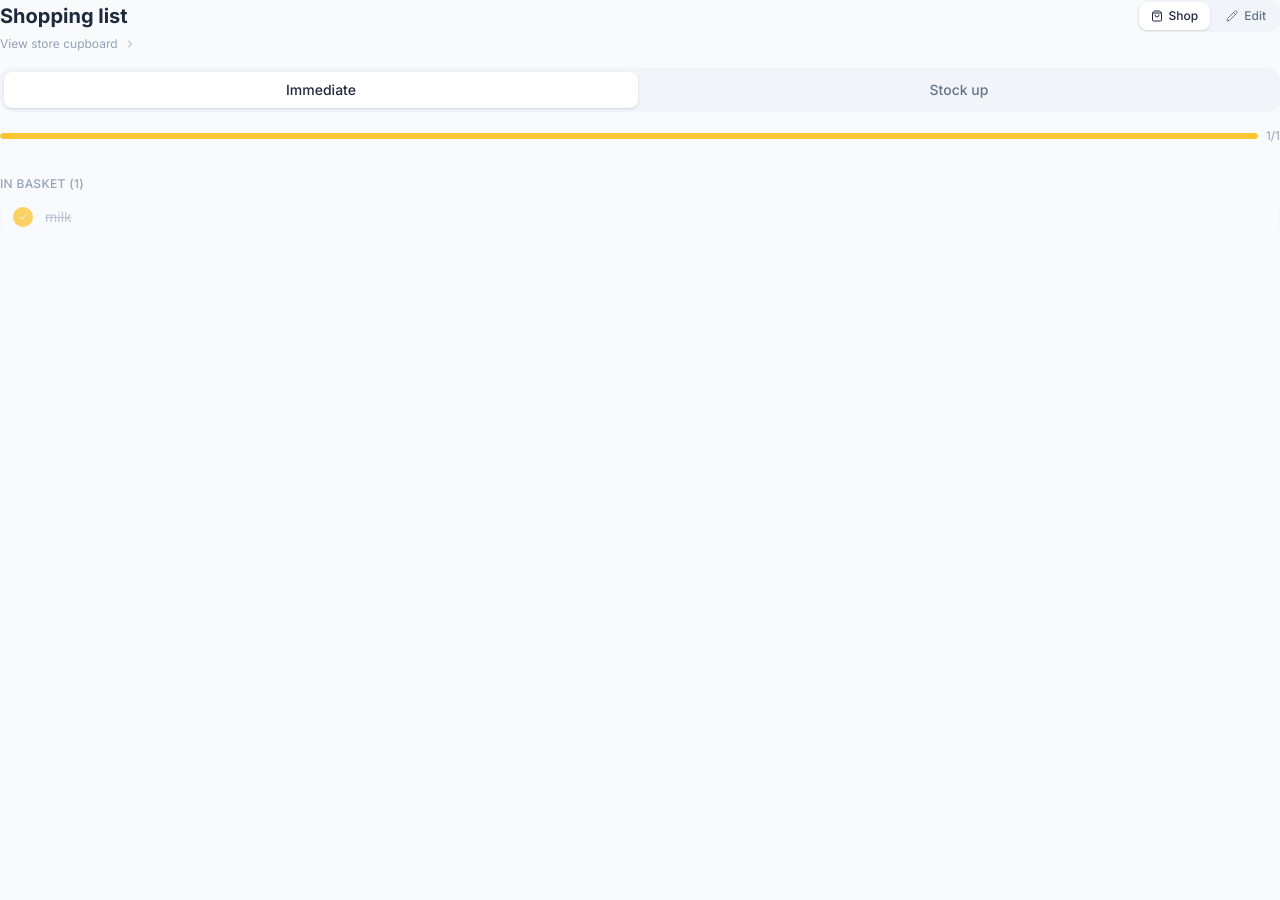
Test: ShoppingListPage — item sheet in edit mode › changes category with one tap and keeps the sheet open
This screenshot has width=1280, height=900.
Step 1. Click the button "Edit" → (1246, 16), box [1214,2,1278,30]
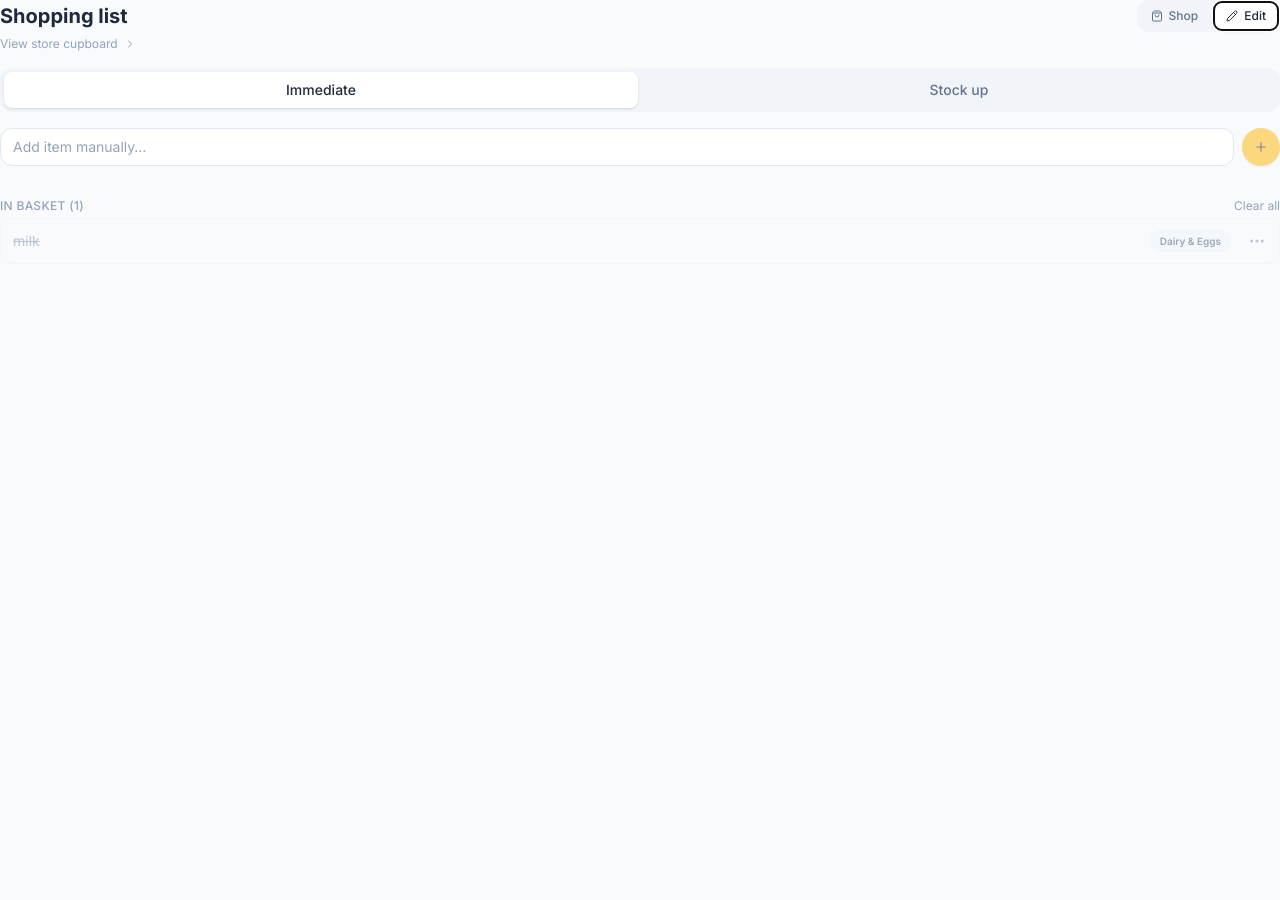
Step 2. Click the button "milk Dairy & Eggs" → (1190, 241), box [13,219,1279,263]
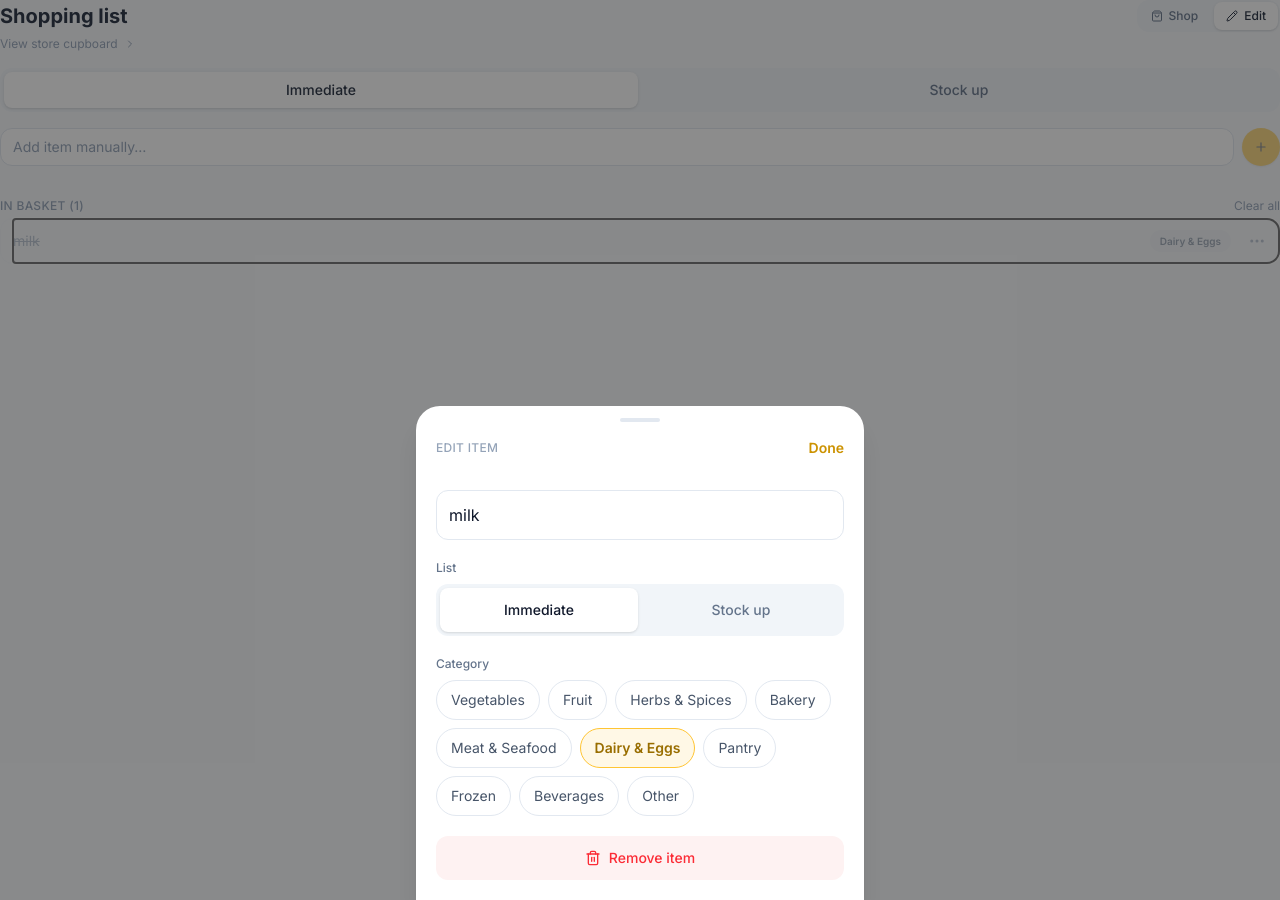
Step 3. Click the button "Frozen" → (474, 796), box [436,776,511,816]
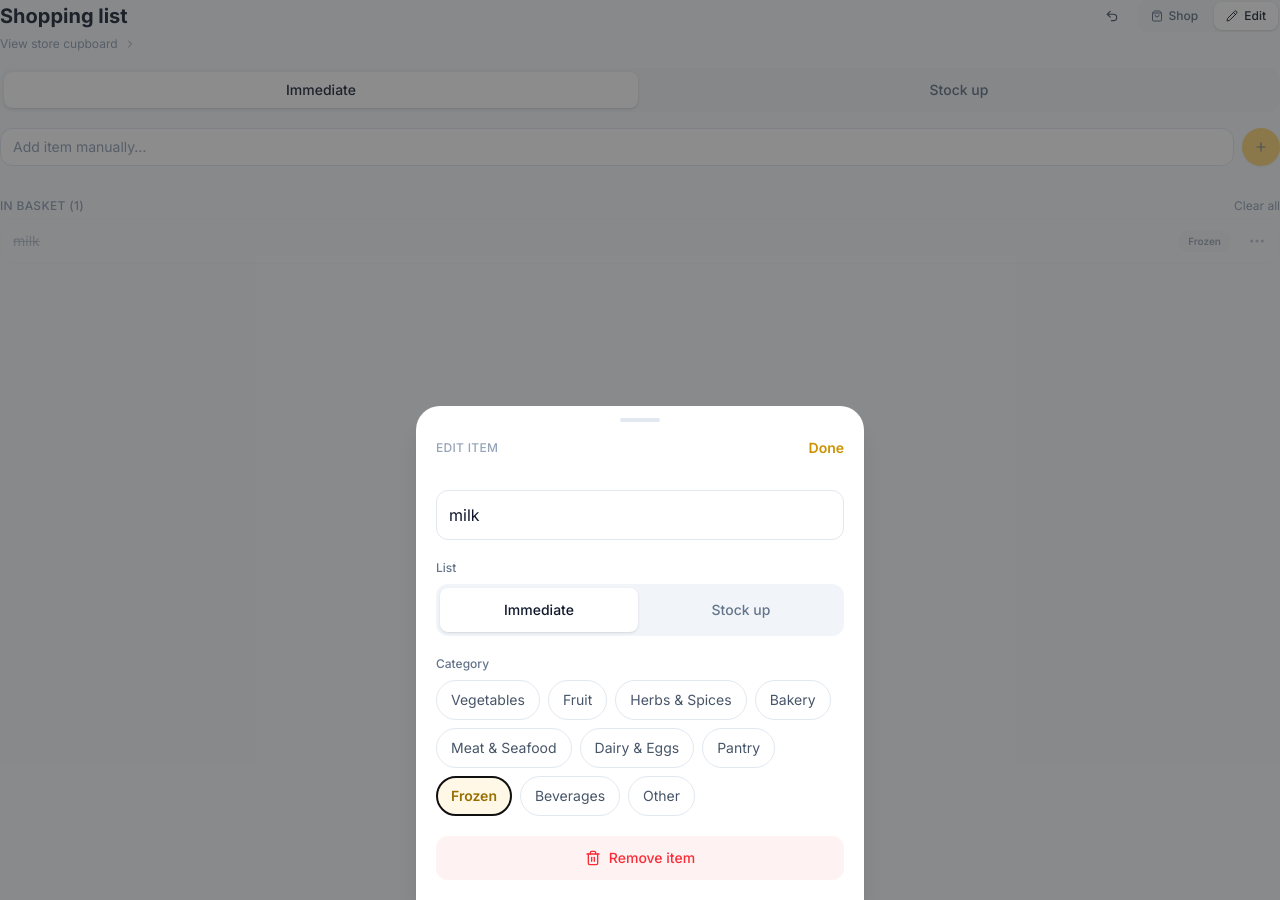
Check: the text "Frozen" is shown, box [1178,230,1231,252]
